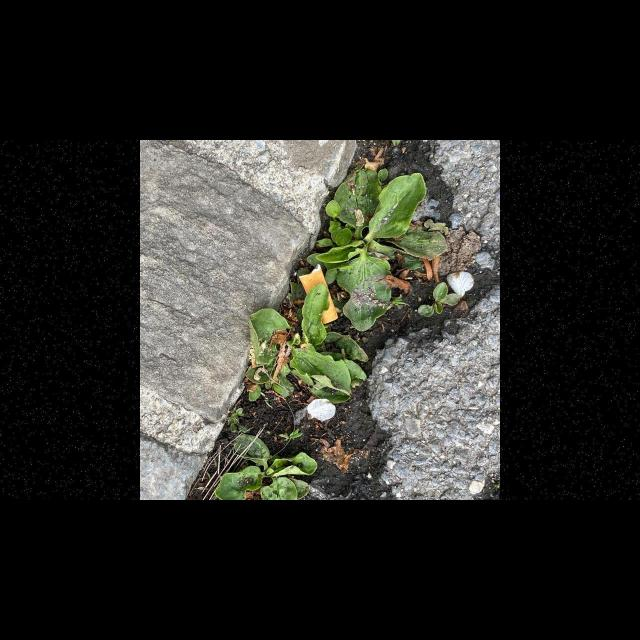cigarette: (299, 263, 339, 324)
